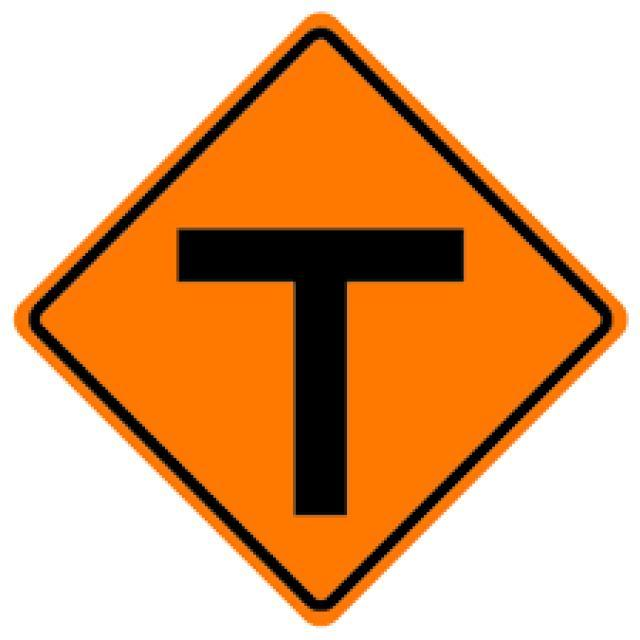t intersection: (40, 34, 613, 609)
